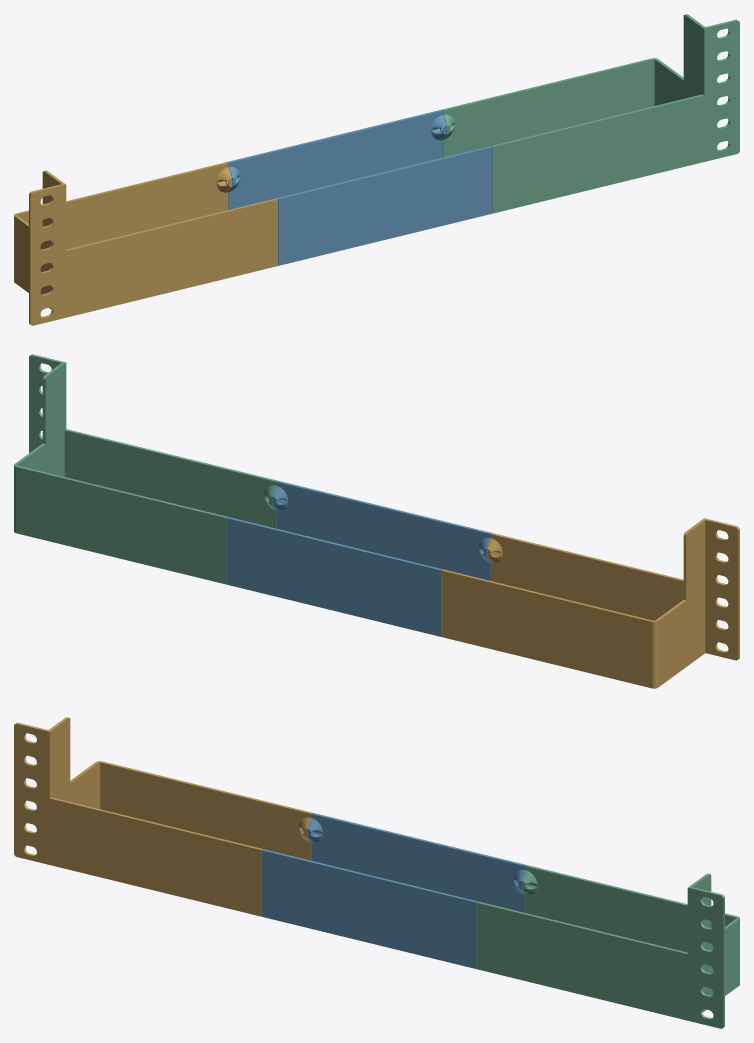
Rendered from rack_up_2u.glb.
3 views of the same model, one above another, from view 1: azimuth 30°, elevation 25°; view 2: azimuth 150°, elevation 25°; view 3: azimuth 330°, elevation 25° (orthographic).
Parts seen in each view (by area): view 1: piece3, piece1, piece2; view 2: piece1, piece3, piece2; view 3: piece1, piece3, piece2.
Part boxes in pixels (x1,y1,x2,y2): piece3: (442,14,739,213); piece1: (14,162,277,325); piece2: (227,110,492,265); piece1: (441,518,739,688); piece3: (14,354,277,584); piece2: (226,480,491,636); piece1: (14,717,312,916); piece3: (476,865,739,1028); piece2: (261,813,526,968).
Size of the model in its own units: 496 by 88.9 by 62.
